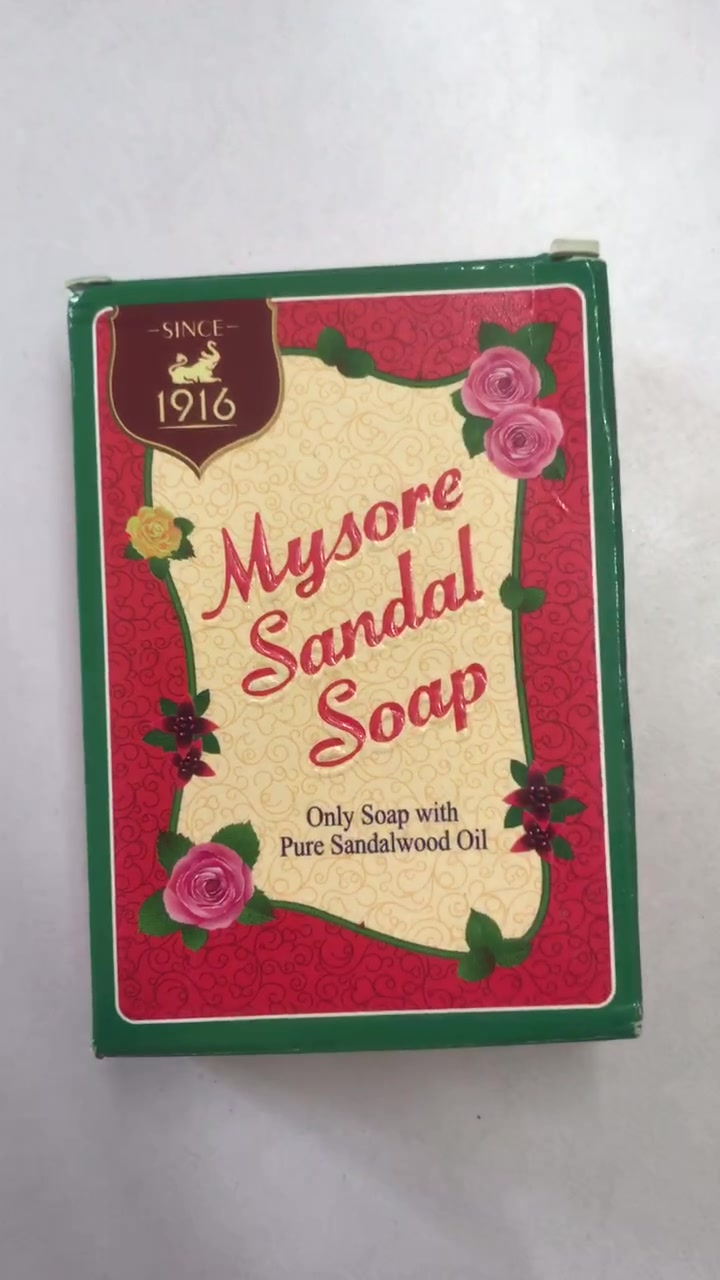mysore sandal soap: (83, 266, 637, 1046)
